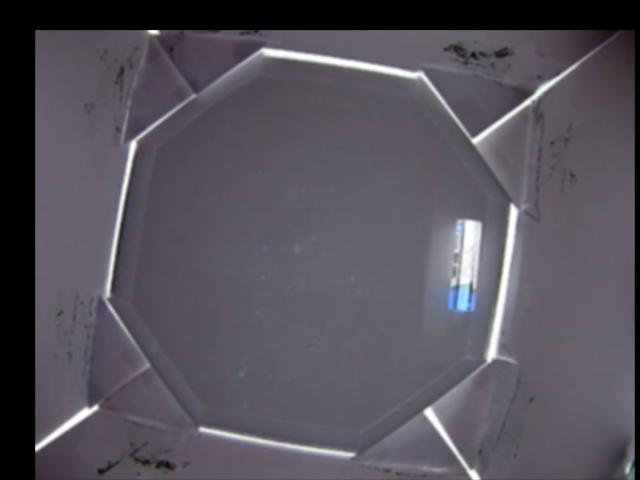Battery: (448, 217, 486, 315)
